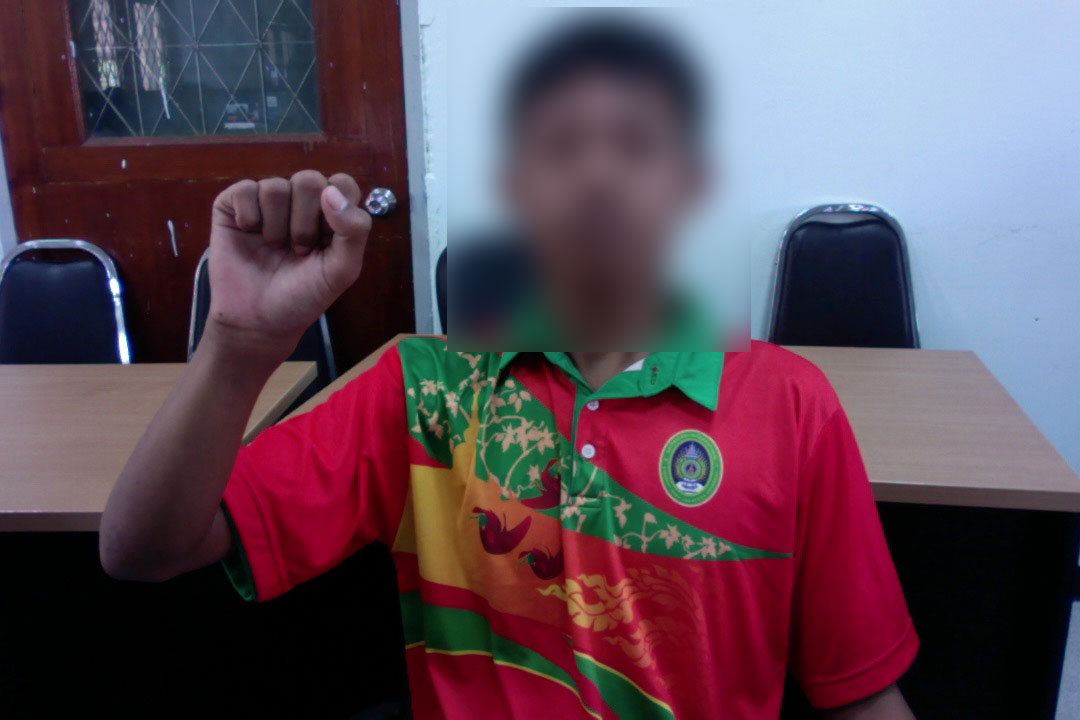sor: (194, 163, 378, 359)
